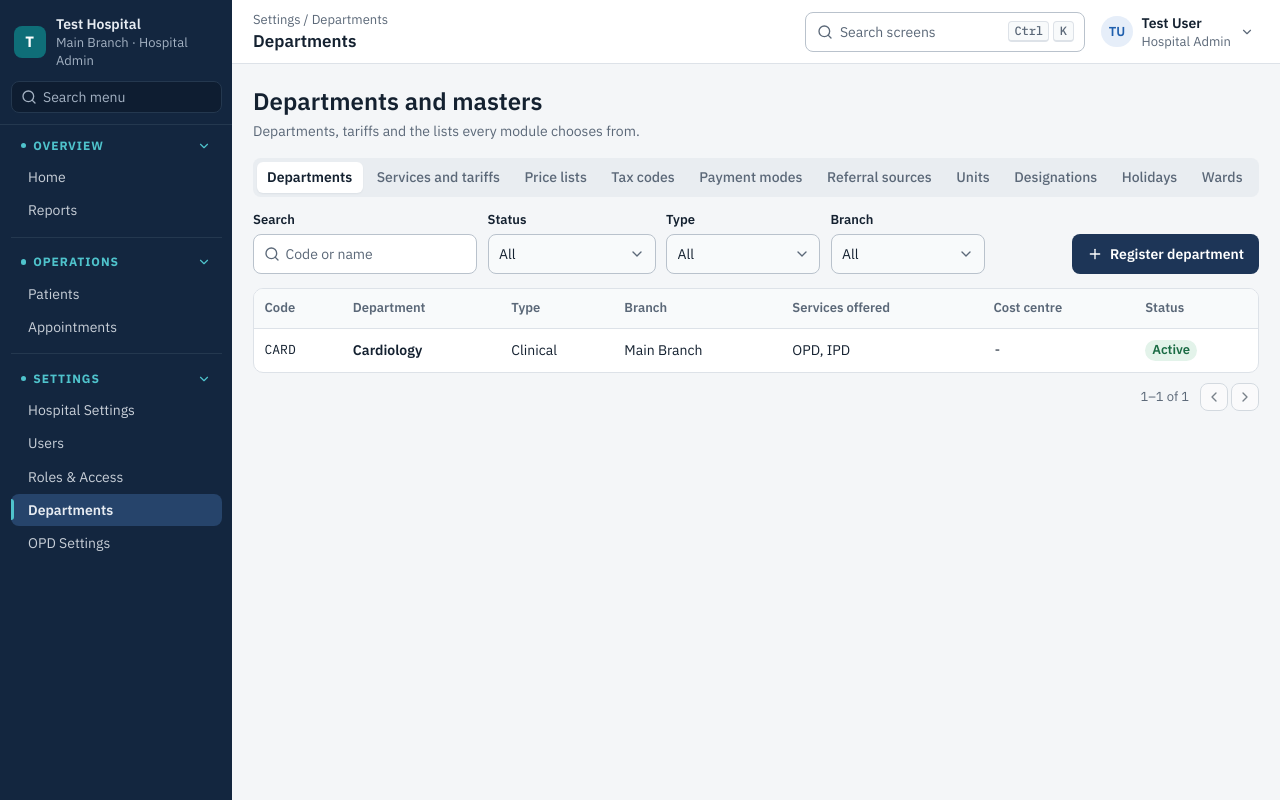
Test: Departments › lists what still uses a department when closing it (409 DEPARTMENT_IN_USE)
The image size is (1280, 800).
Click the cell "Cardiology". click: (422, 350)
box: [342,329,501,372]
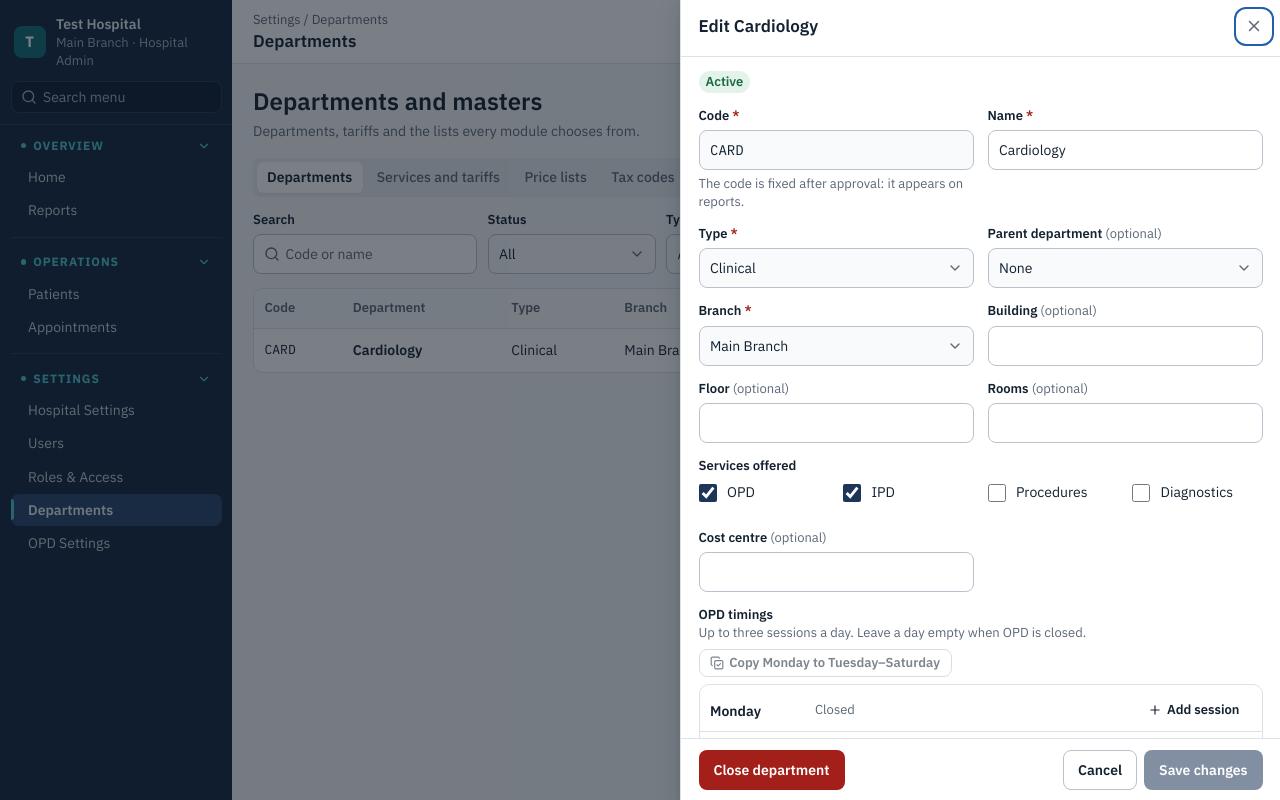
Click the button "Close department". click: (772, 770)
box: [698,750,844,790]
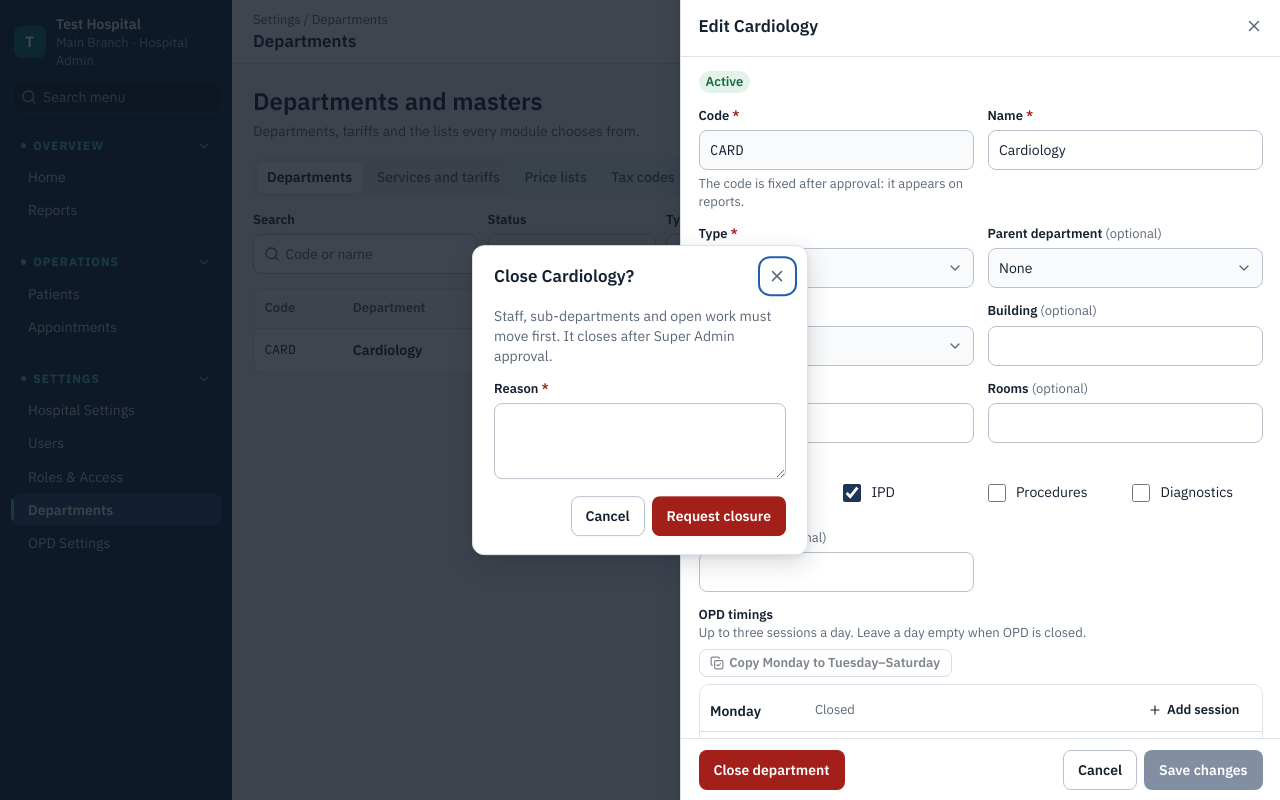
Type "Merged into medicine" into the text box. click: (640, 441)
box: [494,403,786,479]
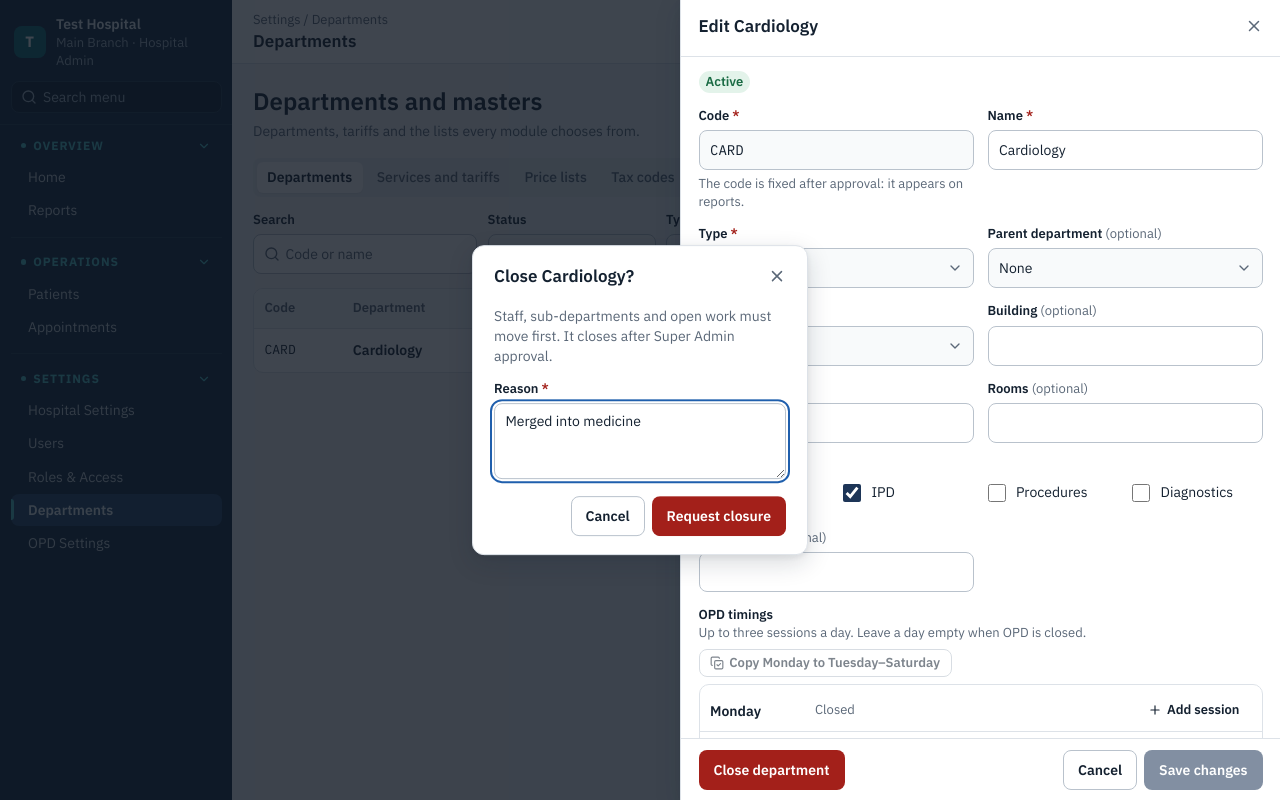
Click the button "Request closure". click: (719, 516)
box: [652,496,786,536]
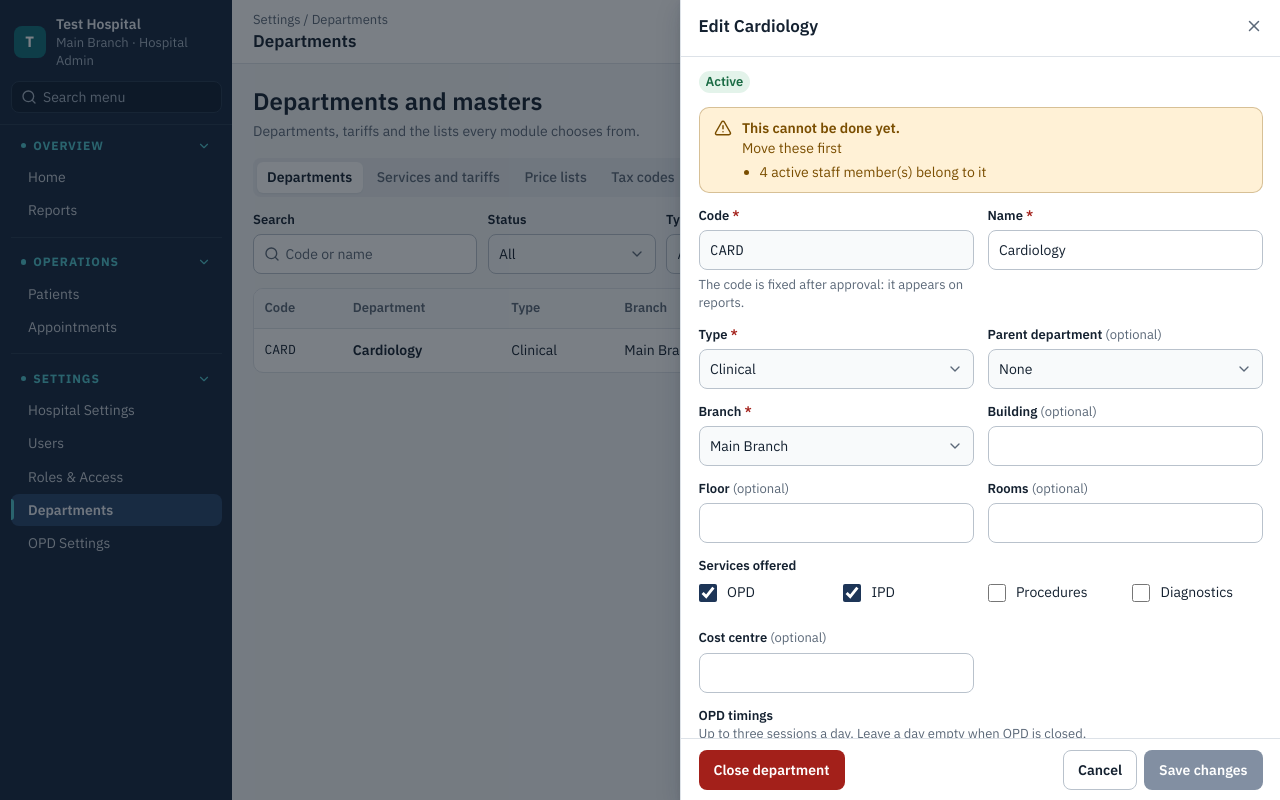
Check: the message shows "4 active staff member(s) belong to it", box [760,162,986,180]
